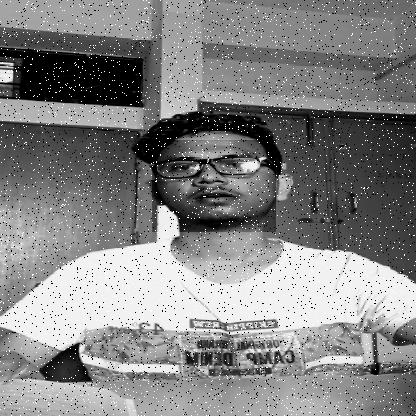Normal: (152, 140, 276, 232)
